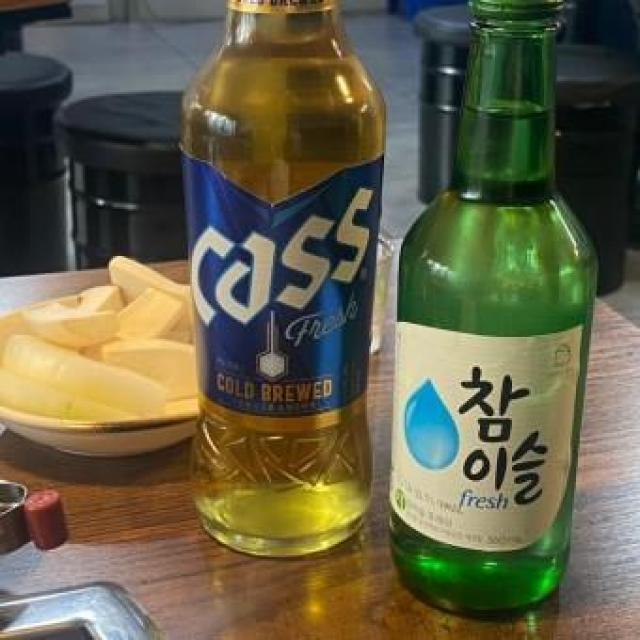beer-bottle: (165, 0, 382, 557)
soju-bottle: (389, 0, 602, 632)
